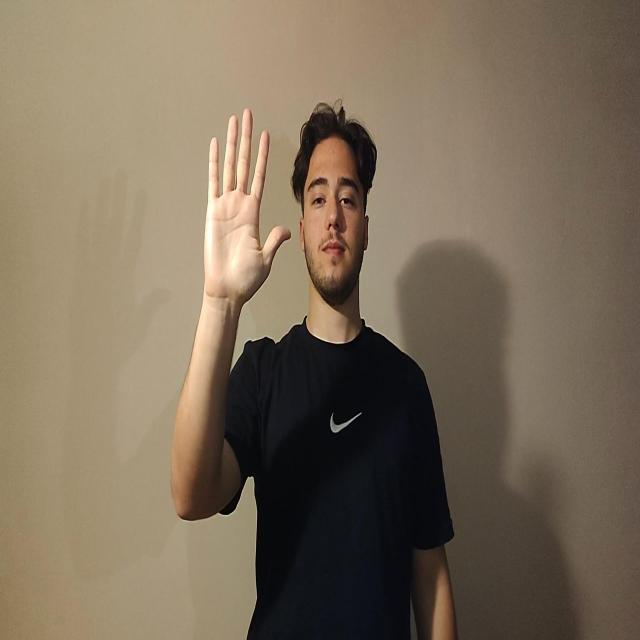hello: (202, 107, 291, 307)
